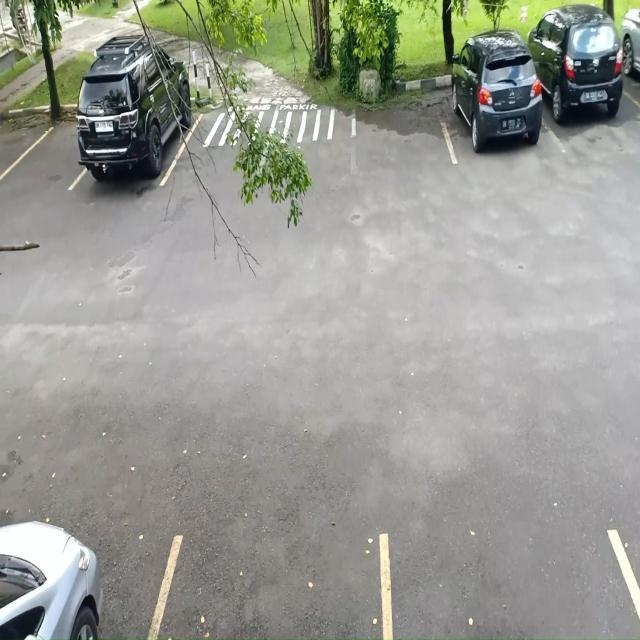Car: (76, 62, 188, 185), (540, 11, 630, 155), (448, 42, 545, 164)
Vacant: (352, 80, 449, 176), (0, 110, 80, 194)
